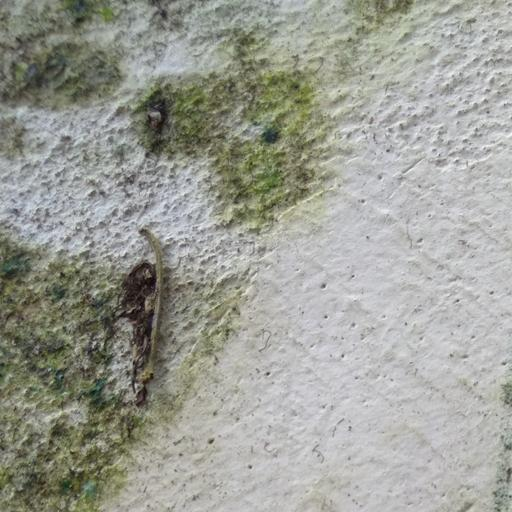algae: (0, 0, 341, 505)
